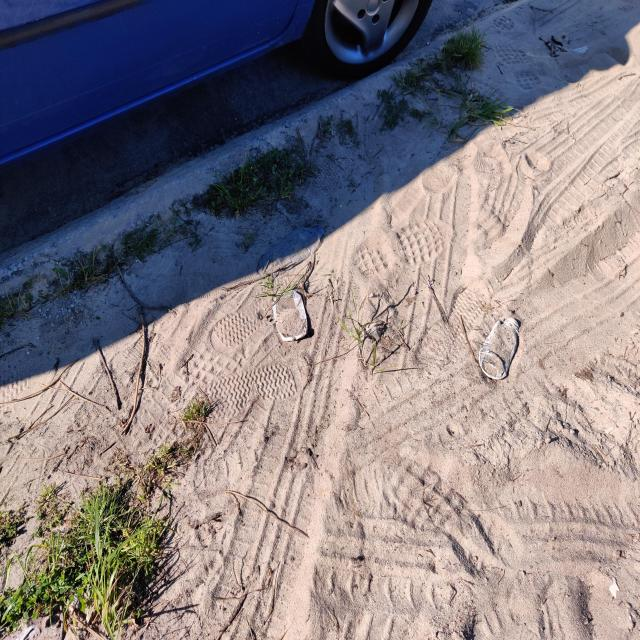litter: (259, 225, 325, 278), (479, 317, 518, 380), (273, 289, 308, 340), (539, 35, 587, 57), (361, 326, 380, 341), (604, 426, 614, 434)
